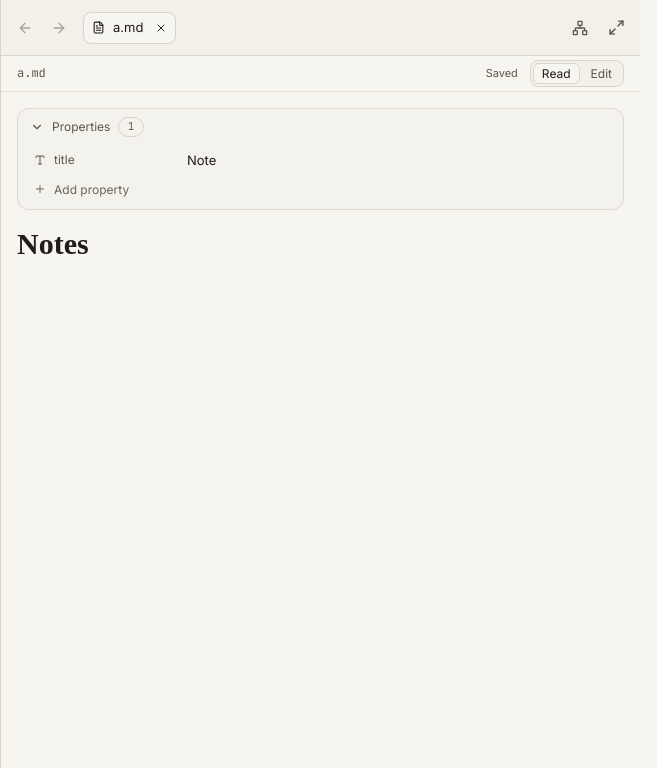
Test: WorkspacePane › adds a property from Workspace suggestions using its registered type
Click the button "Add property" at (92, 189), box [26,177,615,201]
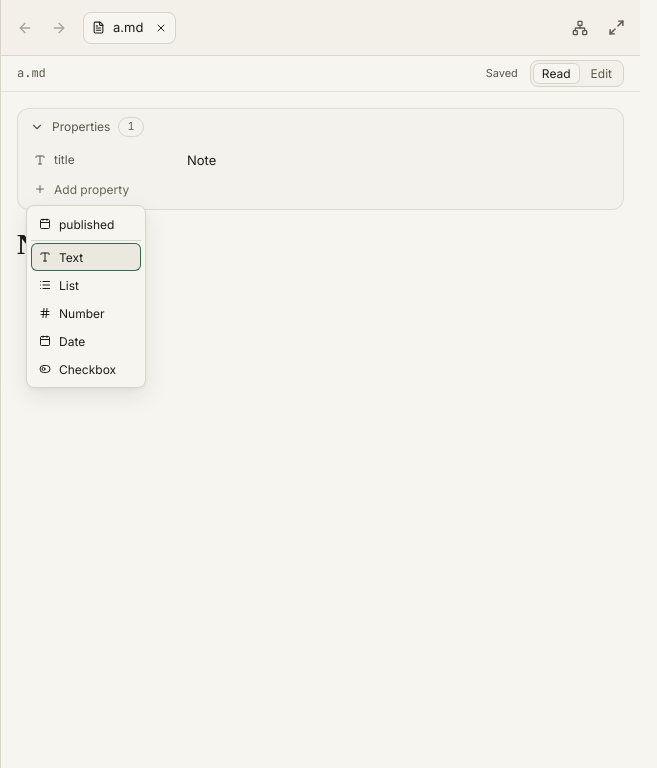
Click the menu item "Text" at (86, 257), box [31,243,141,271]
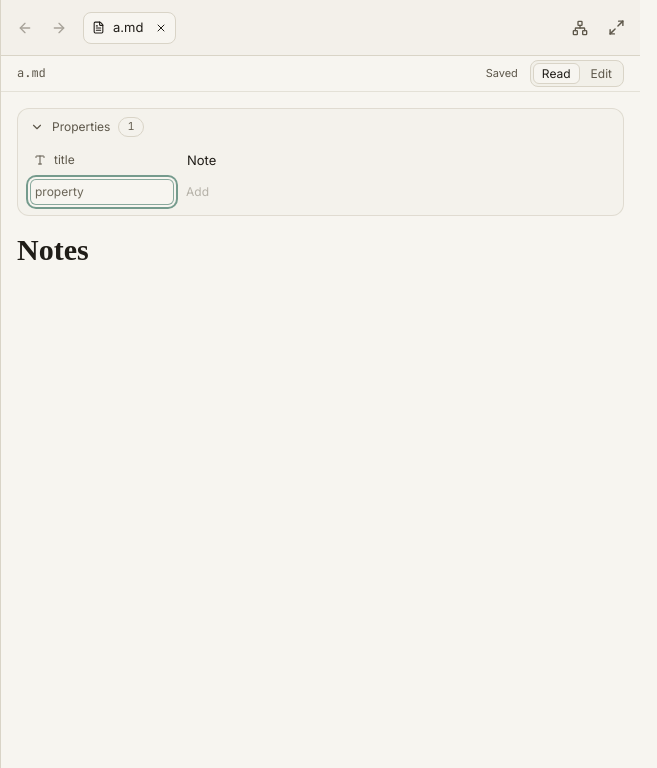
Type "title" into the field named "New property name" at (102, 192), box [30,179,174,205]
Press Enter in the field named "New property name", box [30,179,174,205]
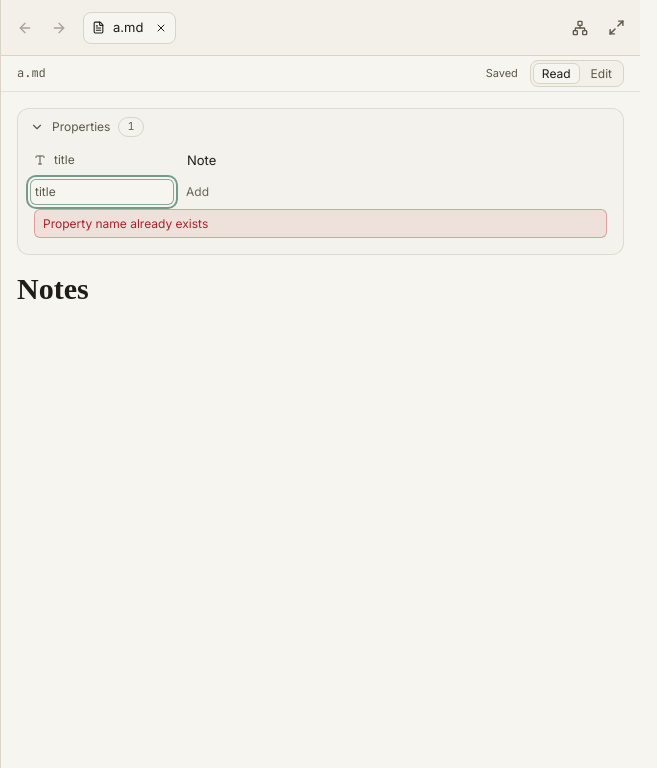
Result: the message shows "already exists" at [43,216,208,231]
Press Escape in the field named "New property name", box [30,179,174,205]
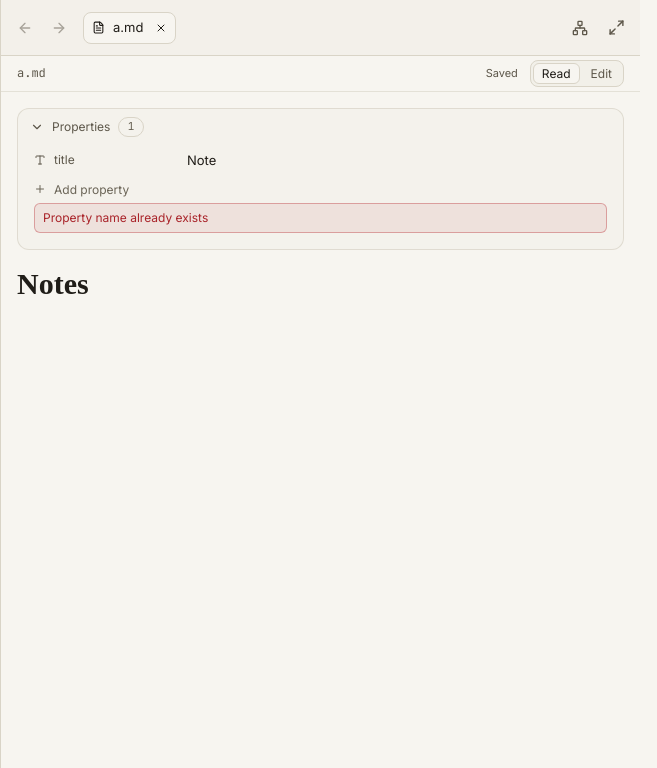
Click the button "Add property" at (92, 189), box [26,177,615,201]
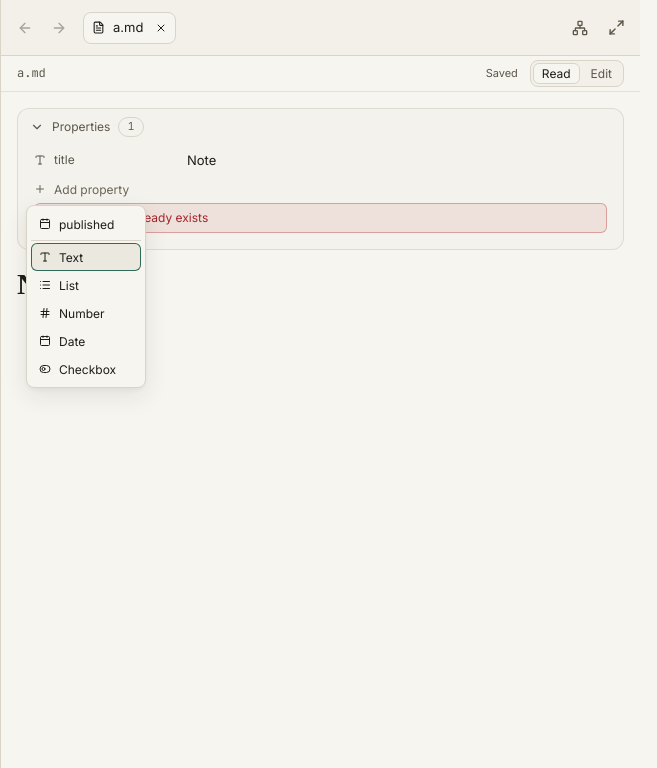
Click the option "published" at (86, 224), box [31,210,141,238]
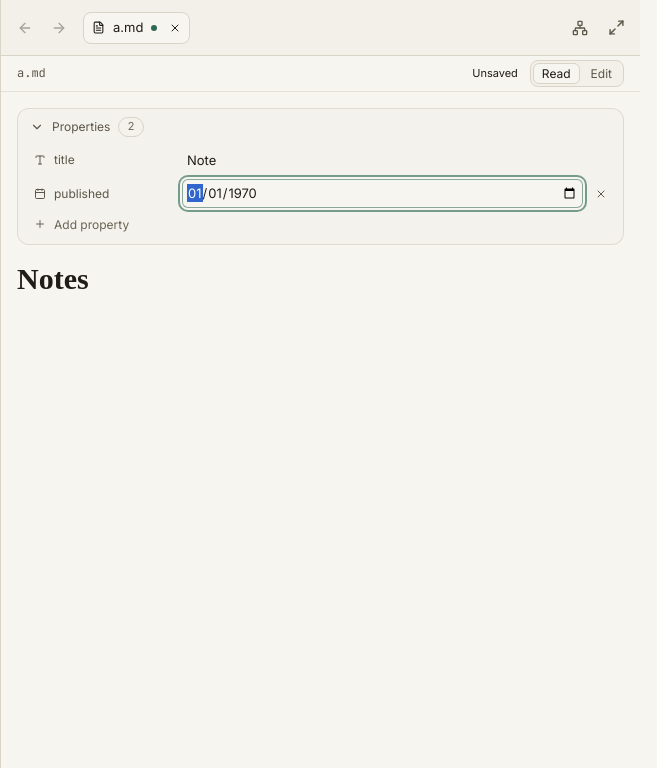
Result: the date field named "published value" is shown at [182,179,583,208]
